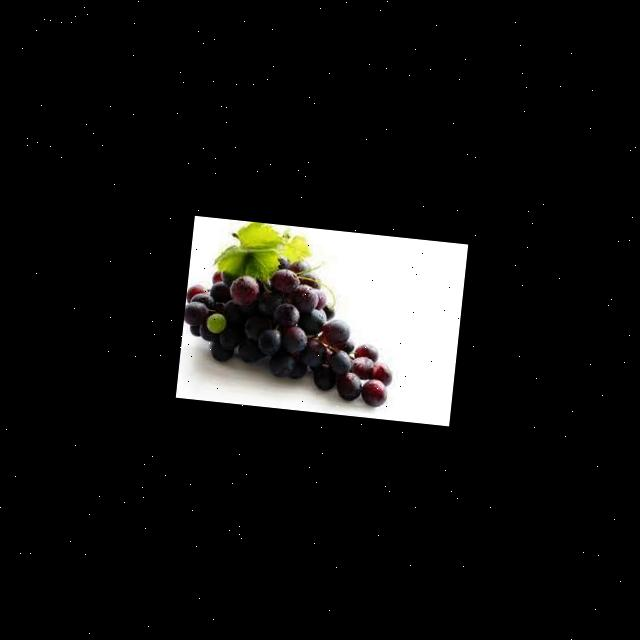grape: (175, 245, 402, 407)
